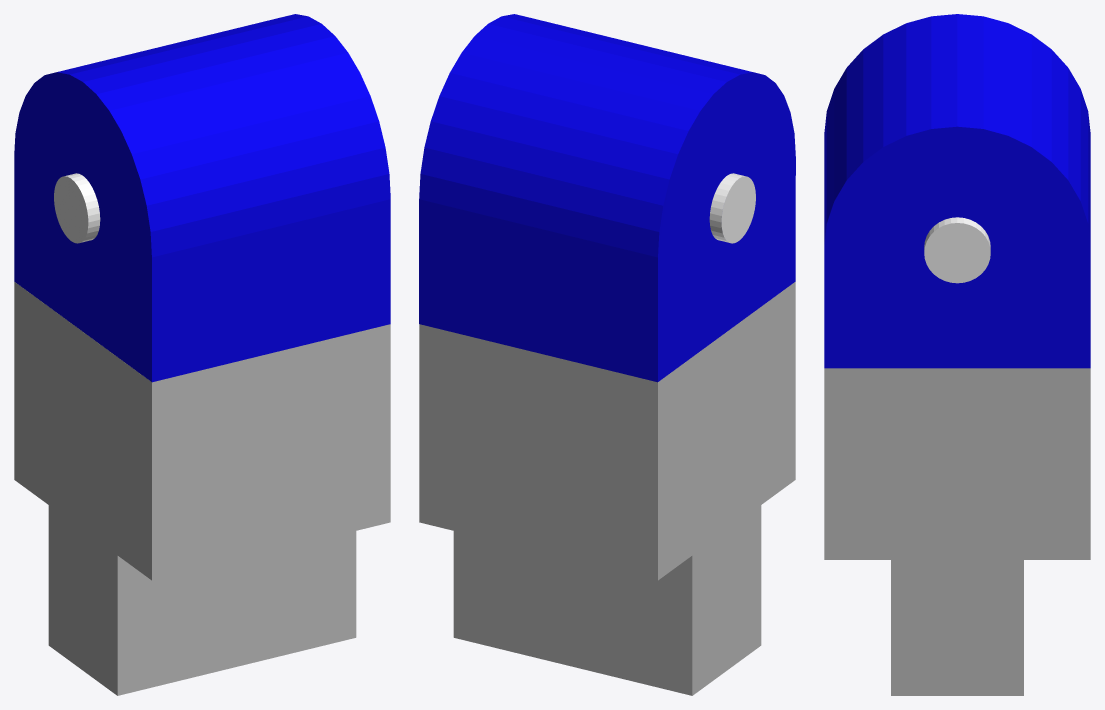
File: body_l_int_springvpin.obj
3 renders of one model, left to right at view 1: azimuth 30°, elevation 25°; view 2: azimuth 150°, elevation 25°; view 3: azimuth 270°, elevation 25°, orthographic. The views are drawn at different scales.
Visible parts, largest first — view 1: body_l_int_springvpin_Cube.013; view 2: body_l_int_springvpin_Cube.013; view 3: body_l_int_springvpin_Cube.013.
Boxes of the visible parts, box(x1,y1,x2,y2) form: body_l_int_springvpin_Cube.013: box(14, 14, 390, 695); body_l_int_springvpin_Cube.013: box(419, 14, 795, 695); body_l_int_springvpin_Cube.013: box(824, 14, 1090, 695).
Size of the model in its own units: 0.022 by 0.0471 by 0.02.
2 materials, 1 textured.
